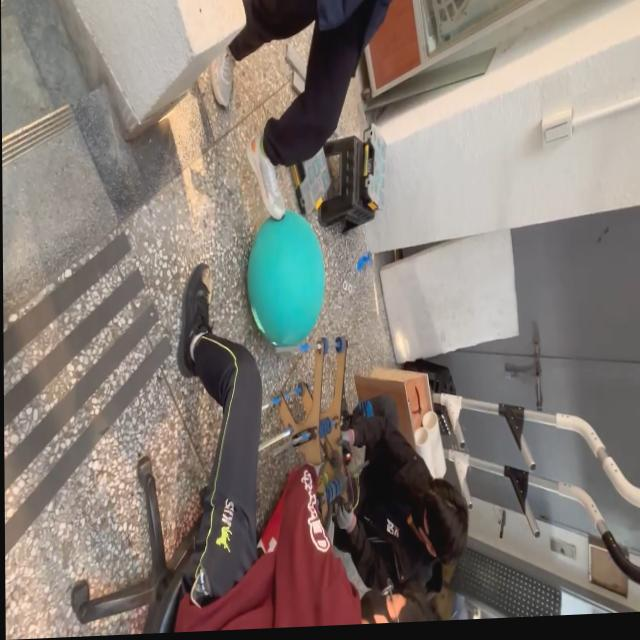ALGAE: (245, 205, 326, 351)
